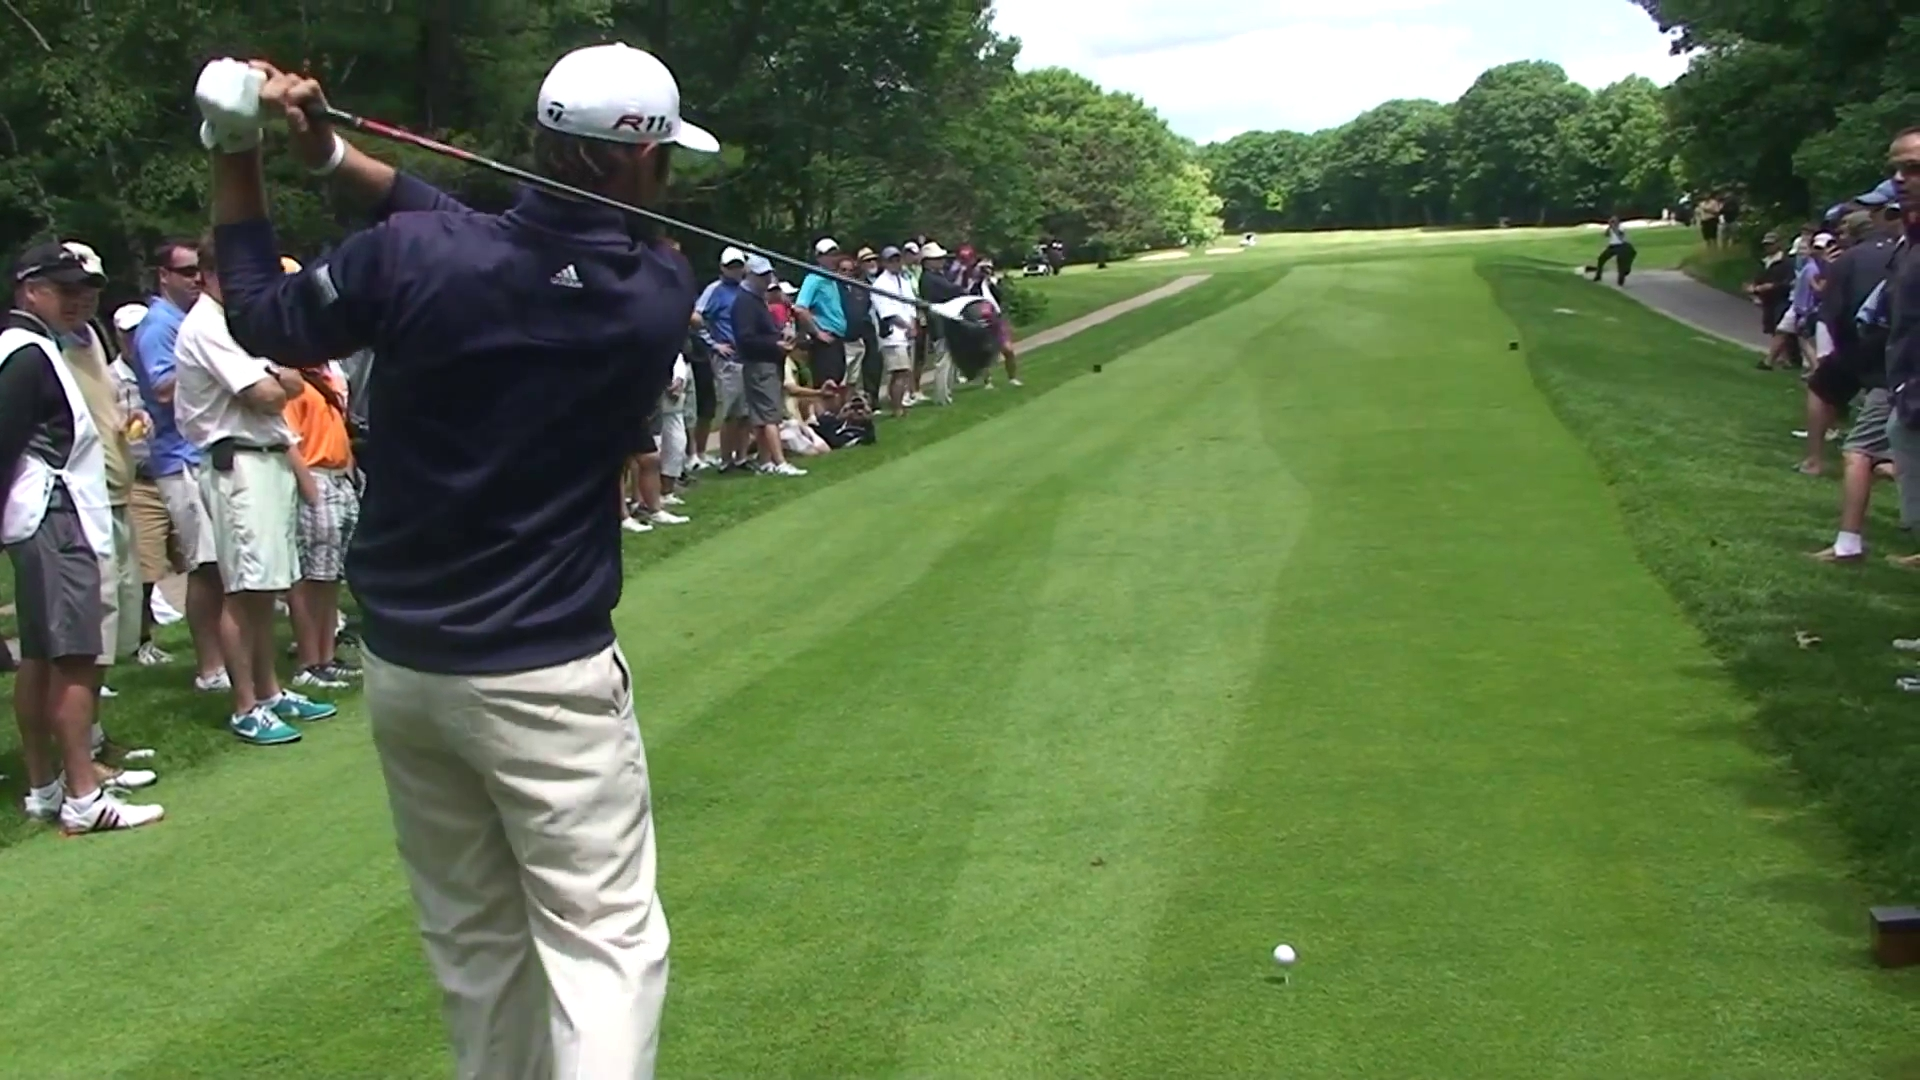person: (197, 41, 721, 1077), (1, 242, 166, 836), (136, 241, 201, 689)
